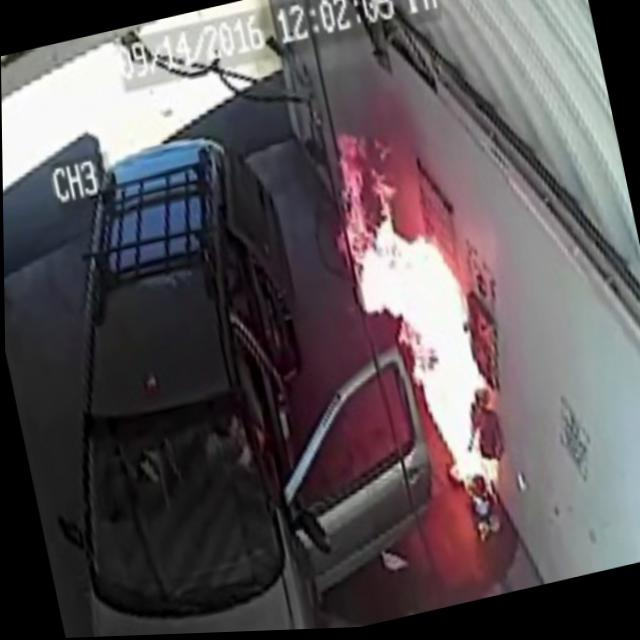fire: (337, 118, 520, 522)
